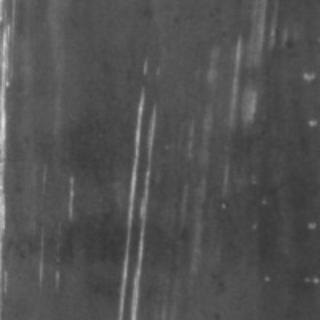scratches: (118, 52, 158, 318)
